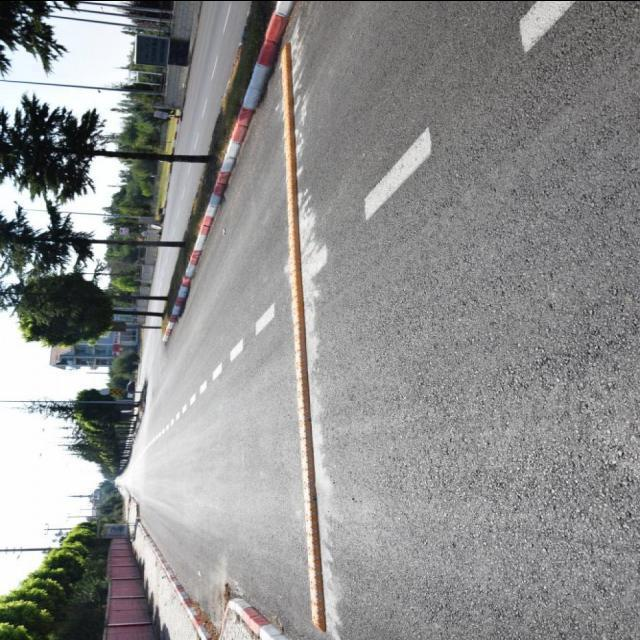speedbreaker: (274, 41, 334, 634)
